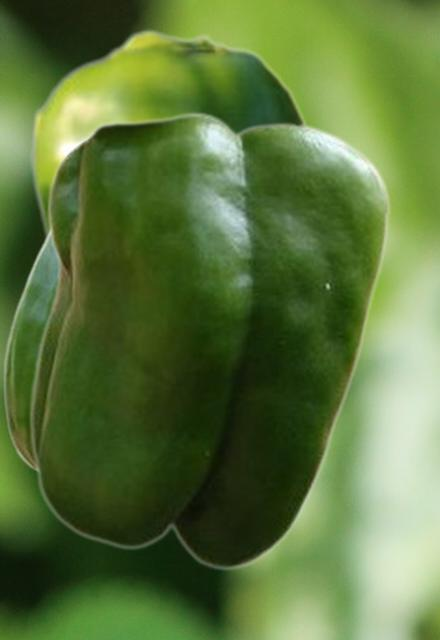bell_pepper: (28, 111, 391, 570), (30, 28, 312, 240), (2, 231, 55, 473)
